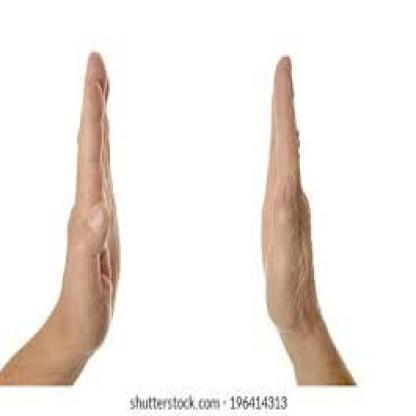stop: (50, 37, 136, 351), (256, 46, 318, 356)
